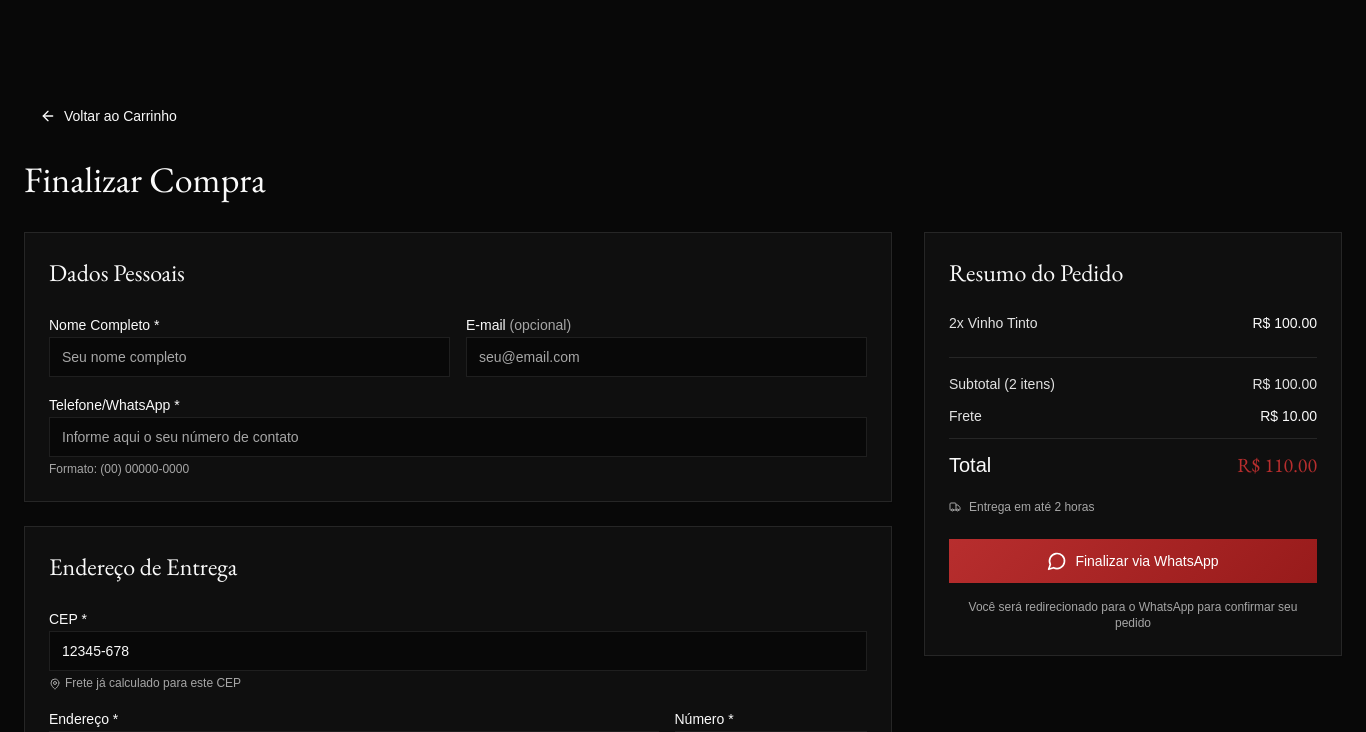
Test: Checkout - Real-time Validation › Email Field Validation › should show error for invalid email format
Note: Type invalid email
Type "invalid-email" into the field labelled "E-mail (opcional)". click: x=666, y=357
box: [466,337,867,377]
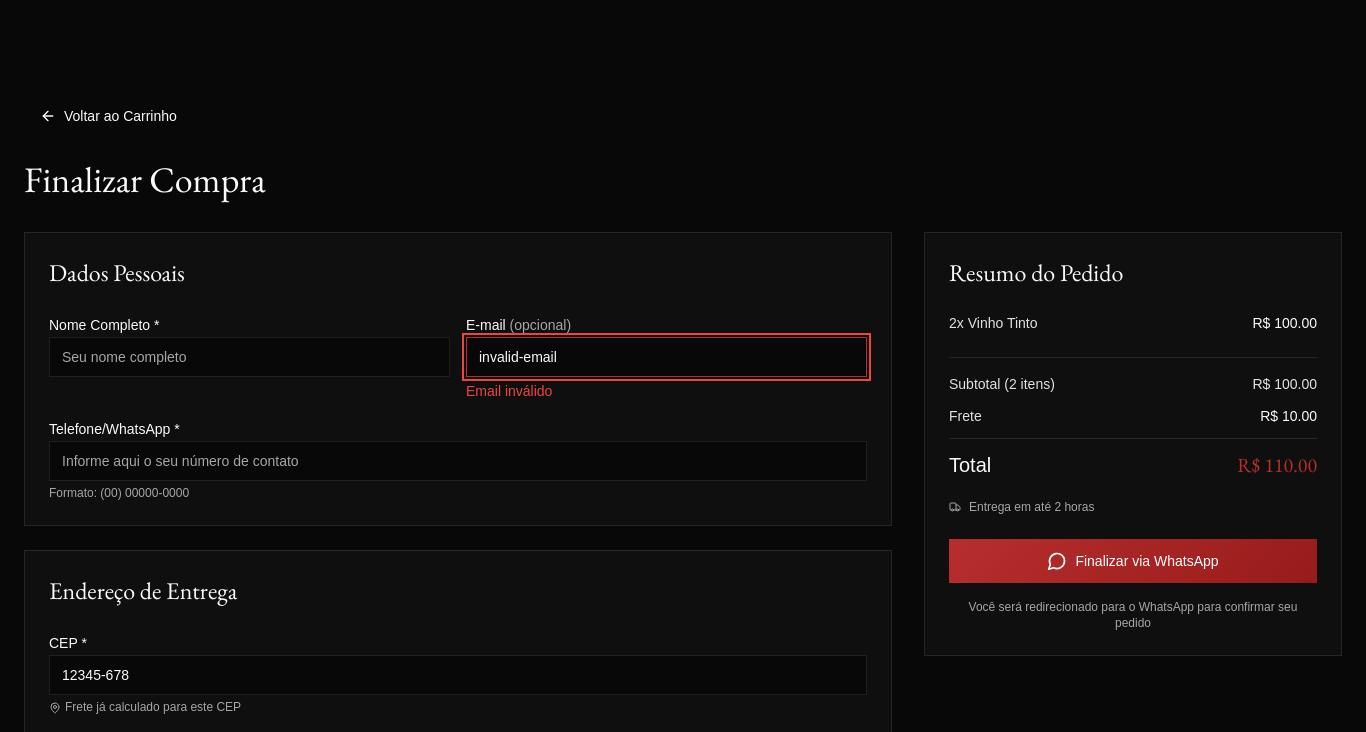
Expected: the text "Email inválido" is shown, [466,383,552,399]
